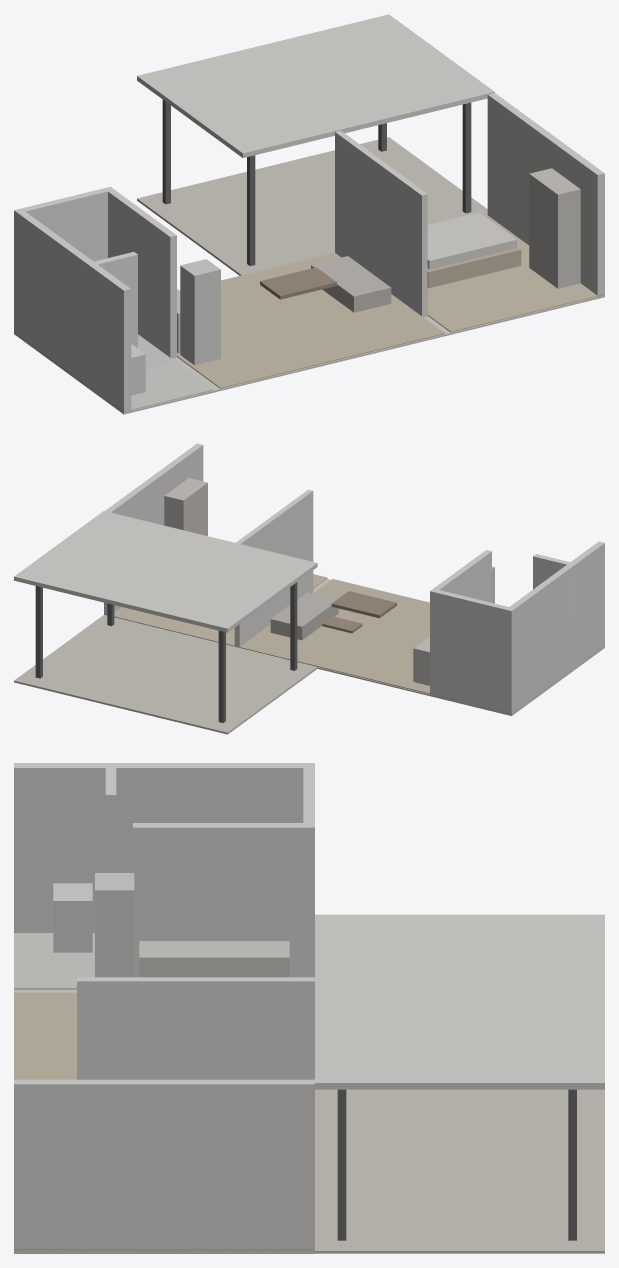
File: ground_floor_model_corrected.glb
3 renders of one model, top to bottom at view 1: azimuth 30°, elevation 25°; view 2: azimuth 150°, elevation 25°; view 3: azimuth 270°, elevation 25°, orthographic. The views are drawn at different scales.
Parts seen in each view (by area): view 1: portico_roof, portico_floor, living_floor, left_wall, living_bed_wall_front, right_wall, service_partition_lower, bedroom_floor, wardrobe, front_wall_bath, fridge, mattress (+11 smaller); view 2: portico_roof, portico_floor, left_wall, living_floor, front_wall_bath, living_bed_wall_front, right_wall, service_partition_lower, wardrobe, sofa, bedroom_floor, central_table (+7 smaller); view 3: right_wall, portico_roof, portico_floor, left_wall, living_bed_wall_front, service_partition_lower, kitchen, living_floor, fridge, utility_floor, washing_machine, portico_post_4 (+4 smaller).
Part boxes in pixels (x1,y1,x2,y2): portico_roof: (137,14,494,157); portico_floor: (137,137,487,275); living_floor: (177,252,444,388); left_wall: (14,208,131,413); living_bed_wall_front: (335,130,427,317); right_wall: (487,93,604,297); service_partition_lower: (104,186,176,358); bedroom_floor: (427,215,604,332); wardrobe: (529,168,580,288); front_wall_bath: (14,188,107,335); fridge: (180,259,220,365); mattress: (427,212,516,269); portico_roof: (14,511,317,632); portico_floor: (14,615,317,734); left_wall: (505,541,604,715); living_floor: (239,579,429,694); front_wall_bath: (435,590,515,715); living_bed_wall_front: (234,489,313,647); right_wall: (104,443,203,615); service_partition_lower: (430,550,491,696); wardrobe: (164,478,207,535); sofa: (270,592,338,640); bedroom_floor: (104,574,327,646); central_table: (331,591,396,618); right_wall: (14,1079,314,1253); portico_roof: (315,914,604,1089); portico_floor: (315,1089,604,1253); left_wall: (14,763,314,932); living_bed_wall_front: (77,977,314,1079); service_partition_lower: (133,823,314,977); kitchen: (139,941,289,977); living_floor: (14,992,76,1079); fridge: (95,873,134,977); utility_floor: (14,933,94,989); washing_machine: (53,883,92,952); portico_post_4: (337,1089,346,1240).
Size of the model in its own units: 10.61 by 2.63 by 8.25.
